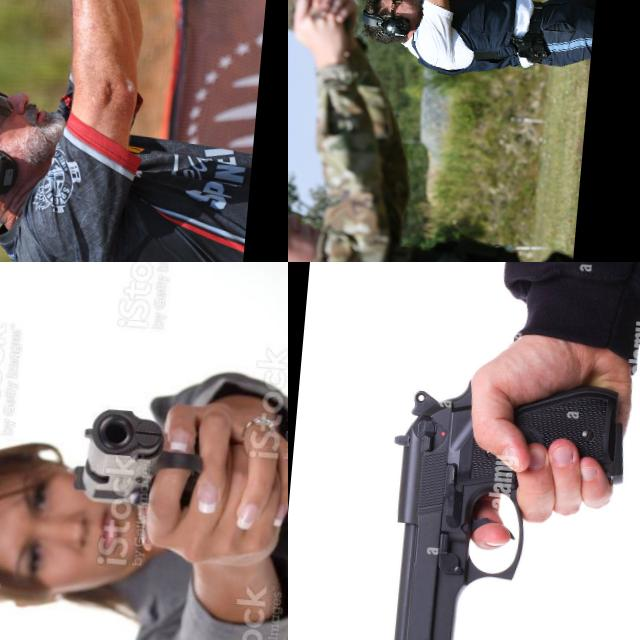handgun: (365, 362, 638, 640), (69, 402, 210, 516), (14, 0, 76, 72), (288, 0, 319, 51), (403, 0, 433, 25)
